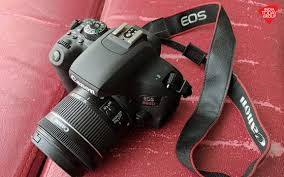camera: (41, 17, 182, 168)
